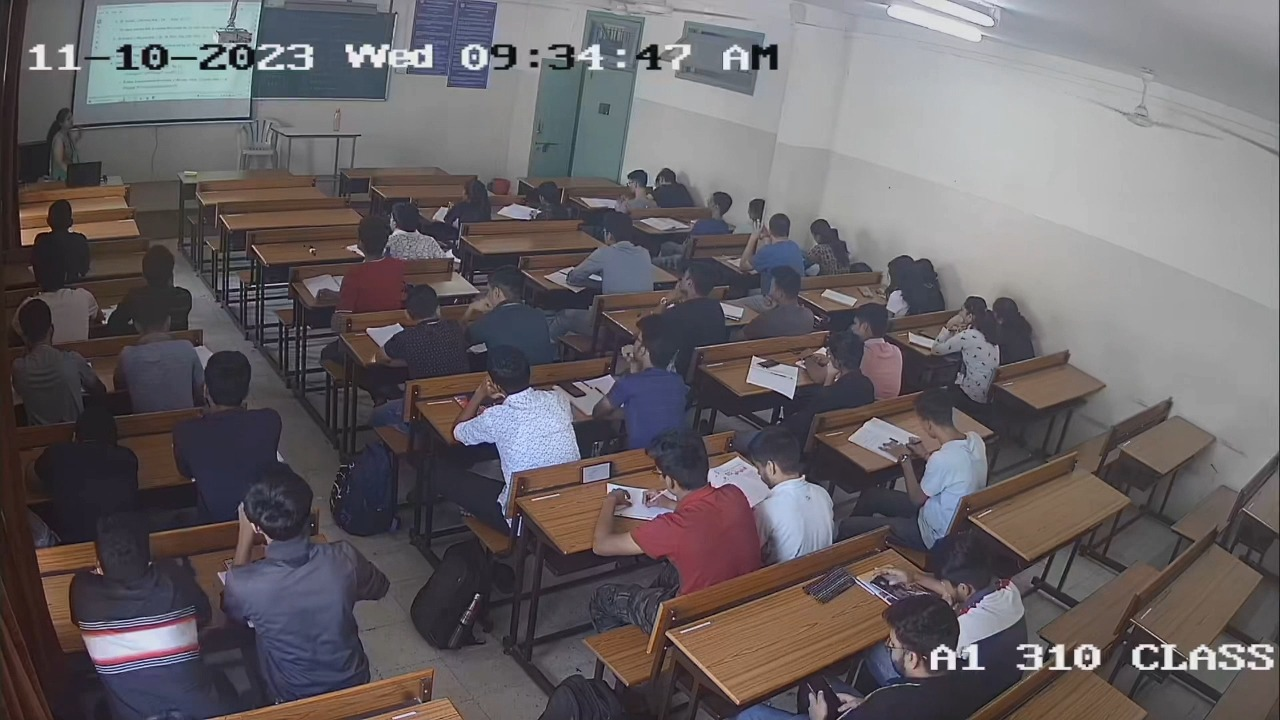cell-phones: (806, 670, 845, 718), (581, 461, 613, 483), (553, 381, 586, 399), (755, 358, 780, 370), (917, 330, 939, 342)
person: (589, 433, 760, 594), (842, 585, 971, 720), (582, 317, 690, 437), (784, 335, 875, 432), (924, 295, 1000, 398)
